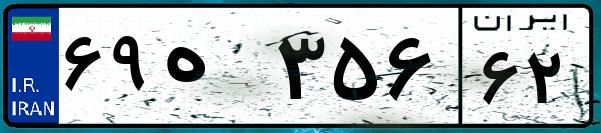2: (525, 38, 570, 115)
3: (270, 28, 330, 110)
5: (330, 28, 385, 110)
6: (385, 28, 445, 110), (57, 26, 110, 100), (475, 38, 525, 113)
9: (110, 28, 158, 98)
ه: (158, 20, 270, 120)
